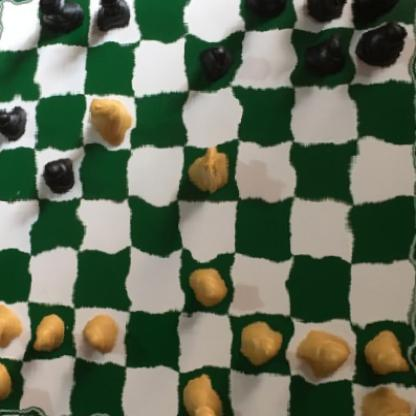black-bishop: (93, 0, 136, 41), (245, 0, 295, 25)
black-king: (32, 0, 86, 46)
black-knight: (304, 0, 352, 27)
black-pawn: (356, 21, 407, 71), (297, 31, 345, 81), (192, 40, 236, 86), (42, 155, 78, 193), (0, 105, 31, 143)
black-rook: (352, 0, 415, 24)
white-king: (177, 376, 226, 416)
white-knight: (186, 135, 235, 195)
white-pawn: (359, 332, 413, 382), (296, 326, 345, 376), (235, 324, 287, 369), (26, 311, 72, 360), (79, 314, 124, 359), (185, 262, 224, 306), (0, 299, 22, 349)
white-queen: (86, 93, 131, 146)
white-rook: (350, 379, 416, 416), (0, 360, 15, 413)
